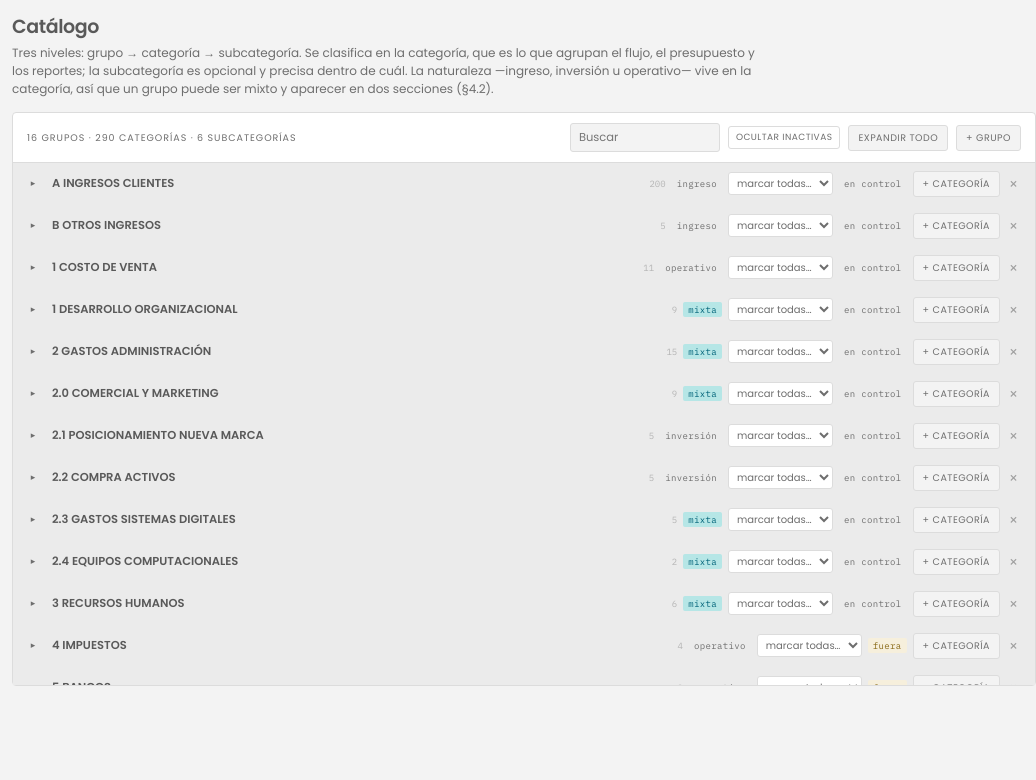
Test: Catálogo › no deja borrar una categoría con movimientos, y explica qué hacer
This screenshot has width=1036, height=780.
In the field named "Buscar en el catálogo": {"x": 645, "y": 138} [570, 123, 720, 152], type "Arriendo oficina"
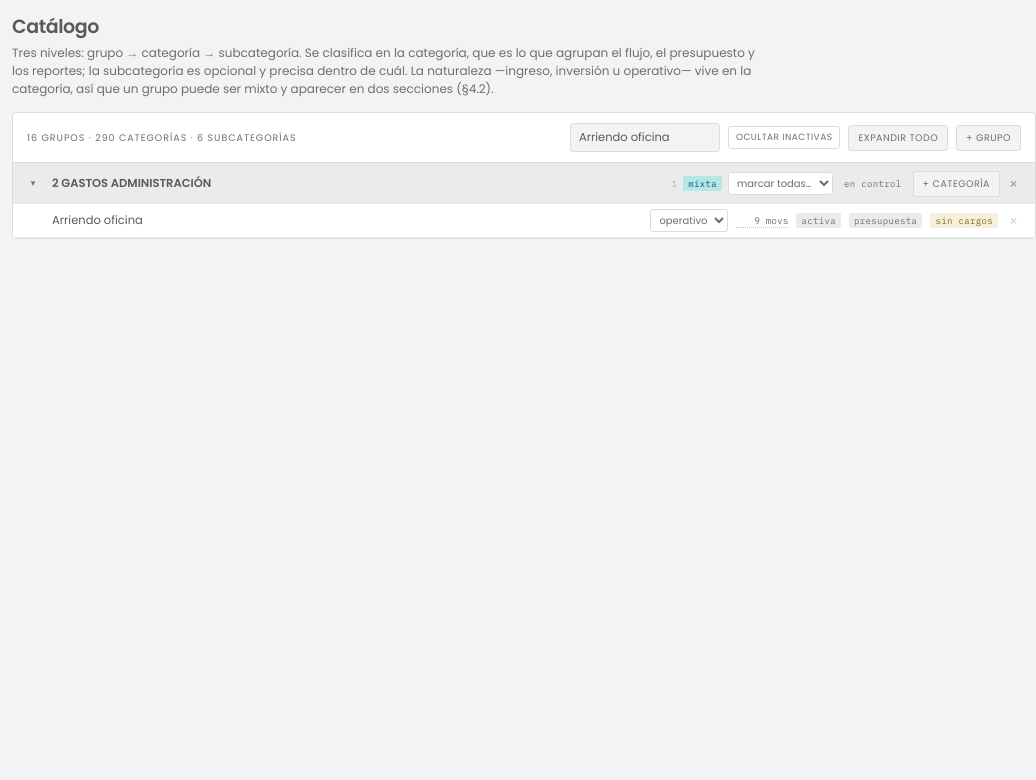
Click the button named "Borrar Arriendo oficina": {"x": 1014, "y": 220} [1006, 214, 1021, 228]
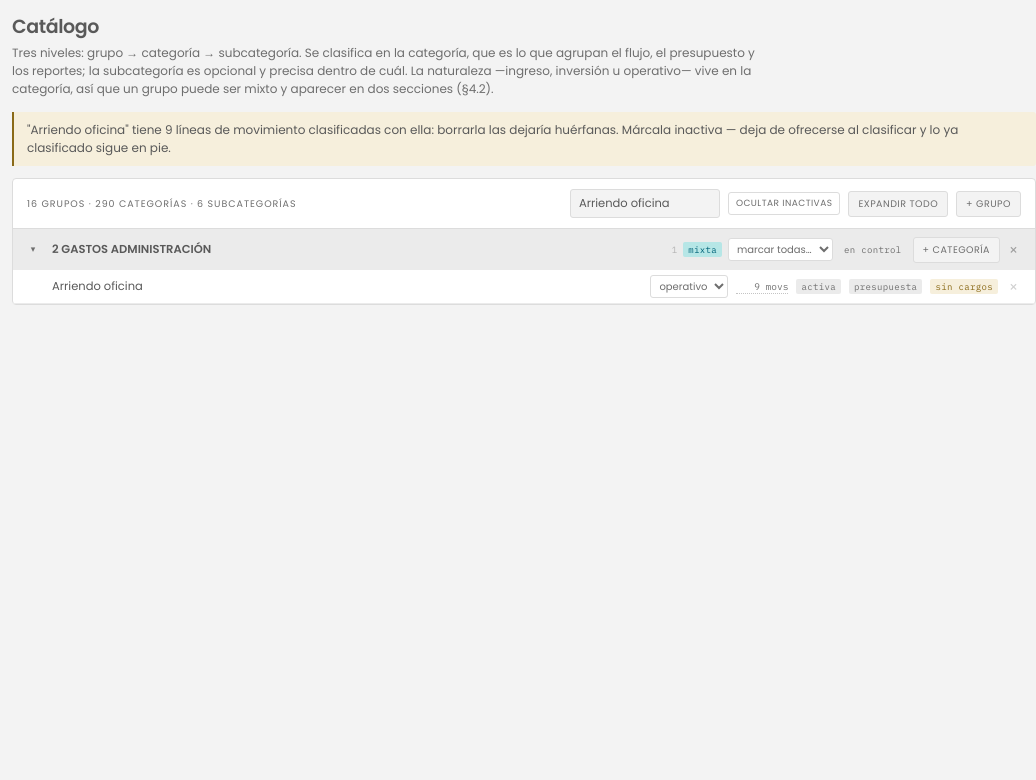
Now the field named "Nombre de Arriendo oficina" is shown, box [45, 273, 642, 300]
Now the text "Márcala inactiva" is shown, box [27, 121, 958, 156]
